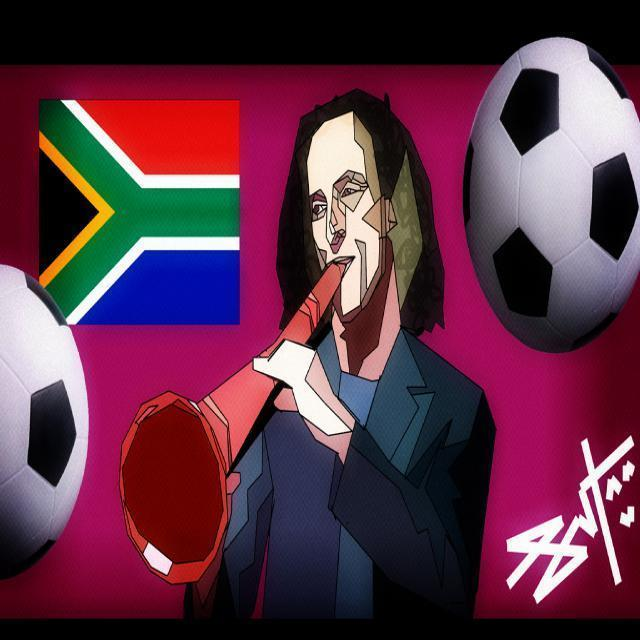ball: (462, 33, 640, 362), (0, 267, 88, 581)
